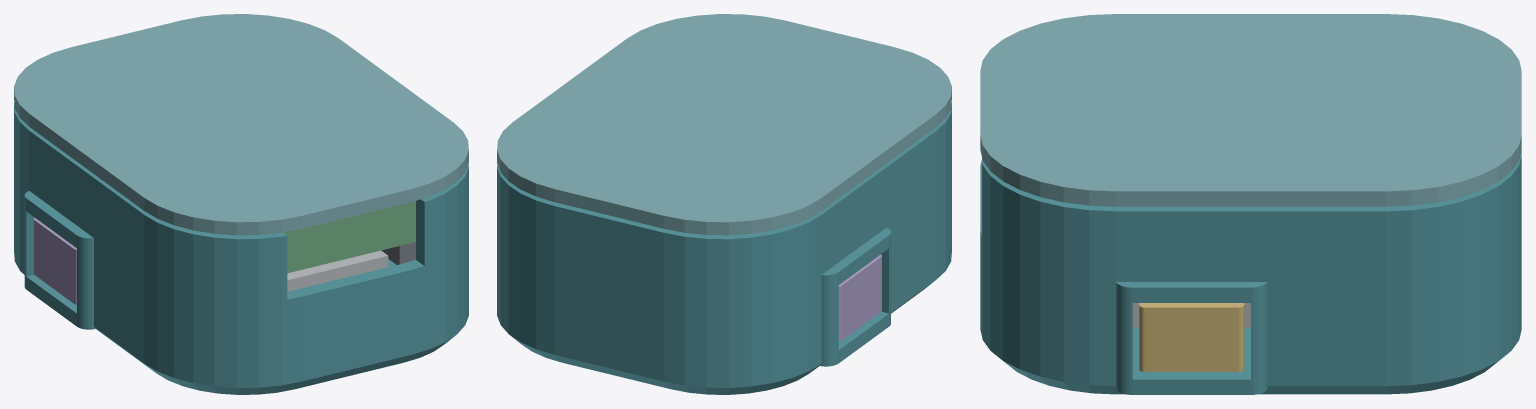
Rendered from Handheld_Left_4Button.glb.
3 views of the same model, side by side, from view 1: azimuth 30°, elevation 25°; view 2: azimuth 150°, elevation 25°; view 3: azimuth 270°, elevation 25° (orthographic). The views are drawn at different scales.
Parts seen in each view (by area): view 1: Lift_Off_Lid, Handheld_Shell, Board_Envelope, Far_Side_Cap, Battery_Envelope, Thumb_Click_Switch_Assumed; view 2: Lift_Off_Lid, Handheld_Shell, Far_Side_Cap; view 3: Lift_Off_Lid, Handheld_Shell, Thumb_Click_Cap.
Part boxes in pixels (x1,y1,x2,y2): Lift_Off_Lid: (14,14,468,235); Handheld_Shell: (14,103,468,394); Board_Envelope: (283,201,415,273); Far_Side_Cap: (33,217,76,304); Battery_Envelope: (287,250,388,291); Thumb_Click_Switch_Assumed: (381,242,415,264); Lift_Off_Lid: (497,14,951,235); Handheld_Shell: (497,103,951,394); Far_Side_Cap: (838,254,881,341); Lift_Off_Lid: (980,14,1521,206); Handheld_Shell: (980,151,1521,394); Thumb_Click_Cap: (1139,303,1244,371).
Bounding box in the file's own units: 0.0264 × 0.0168 × 0.032.
